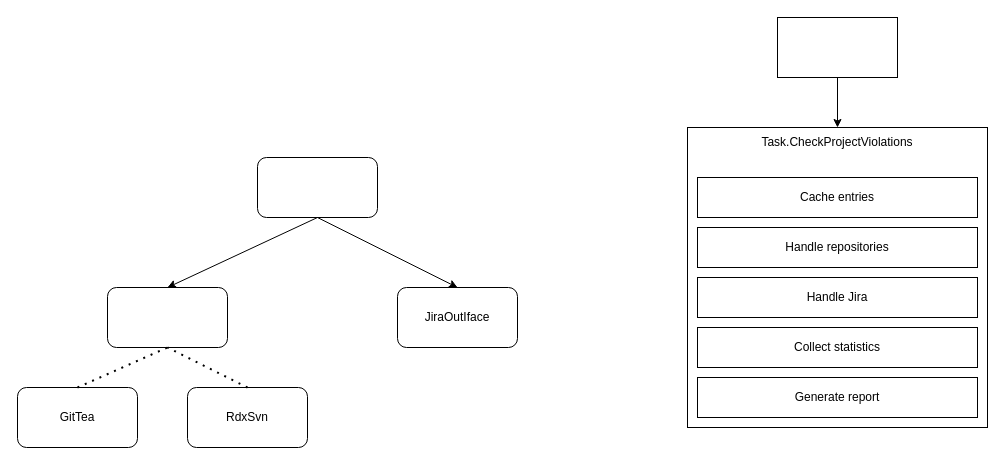
The diagram is 1005 pixels wide and 465 high, and some of its shapes have lost their labels. Here are the shapes that lost their labels. From the top down, the centre of each, then its label:
At point 837,47: "Task scheduler".
At point 317,187: "Project".
At point 167,317: "Repository".
